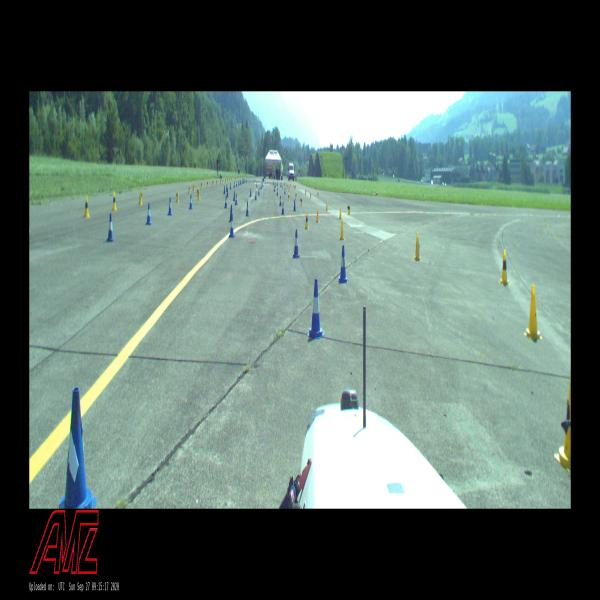blue_cone: (58, 390, 95, 509), (307, 278, 325, 339), (338, 246, 348, 284), (106, 212, 115, 242), (293, 229, 300, 259), (146, 201, 152, 226), (229, 214, 235, 238), (168, 197, 172, 216), (246, 200, 250, 218), (189, 193, 193, 210), (281, 200, 285, 216), (224, 195, 228, 209), (293, 200, 297, 212), (229, 205, 232, 221), (235, 193, 238, 205), (279, 196, 282, 207), (233, 190, 236, 201), (276, 187, 279, 197), (273, 184, 276, 193), (249, 188, 252, 197), (255, 190, 257, 201), (258, 186, 260, 196)
yellow_cone: (554, 371, 570, 472), (524, 286, 542, 338), (500, 249, 509, 286), (413, 234, 421, 261), (84, 194, 90, 219), (340, 218, 346, 240), (112, 193, 117, 213), (138, 189, 143, 206), (305, 212, 309, 230), (316, 207, 320, 224), (176, 189, 180, 204), (348, 202, 351, 216), (196, 186, 200, 196), (339, 206, 342, 219), (300, 196, 303, 207), (188, 183, 191, 194), (287, 192, 290, 203), (206, 178, 209, 189), (200, 180, 203, 190), (309, 190, 312, 200), (295, 189, 297, 200), (198, 190, 200, 201), (326, 200, 328, 211), (212, 178, 214, 188), (193, 182, 195, 192), (216, 178, 218, 187), (317, 191, 319, 199), (305, 189, 307, 196), (220, 178, 221, 185)
